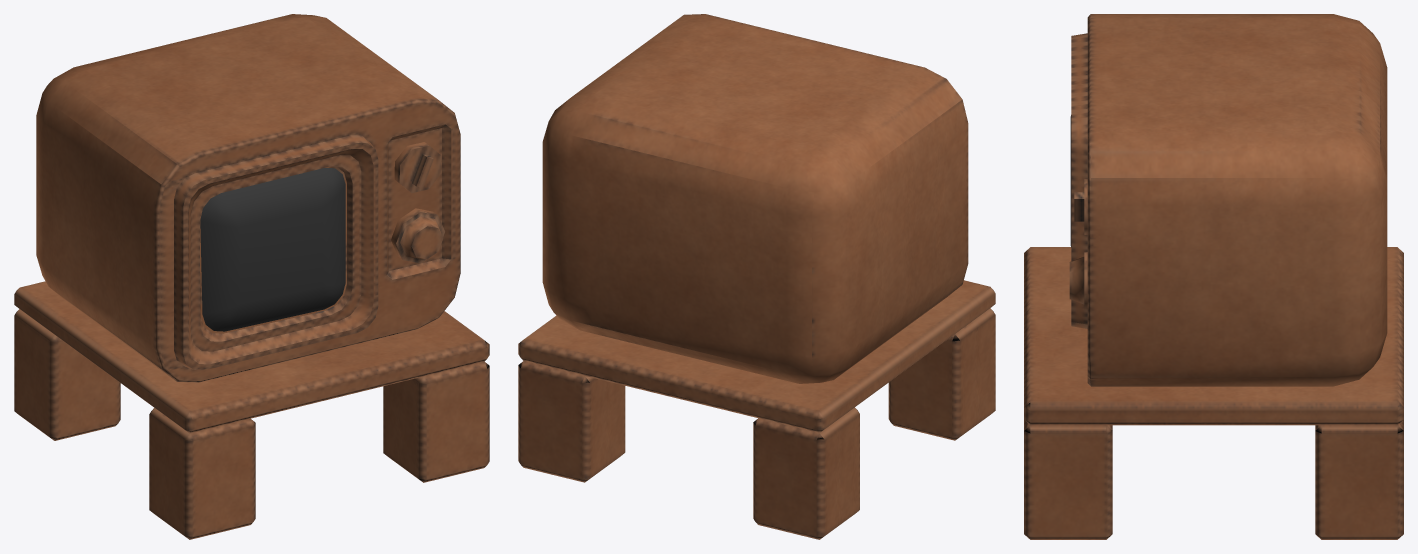
The picture shows the model from 3 angles, left to right: view 1: azimuth 30°, elevation 25°; view 2: azimuth 150°, elevation 25°; view 3: azimuth 270°, elevation 25°; orthographic projection. The views are drawn at different scales.
Parts seen in each view (by area): view 1: TV, TableTop; view 2: TV, TableTop; view 3: TV, TableTop.
Boxes of the visible parts, x1,y1,x2,y2 form: TV: (36,14,460,382); TableTop: (14,281,489,539); TV: (542,14,968,383); TableTop: (518,280,995,539); TV: (1069,14,1387,386); TableTop: (1024,247,1403,539).
Size of the model in its own units: 0.602 by 0.672 by 0.6.
Materials: 2 (1 with a texture image).
